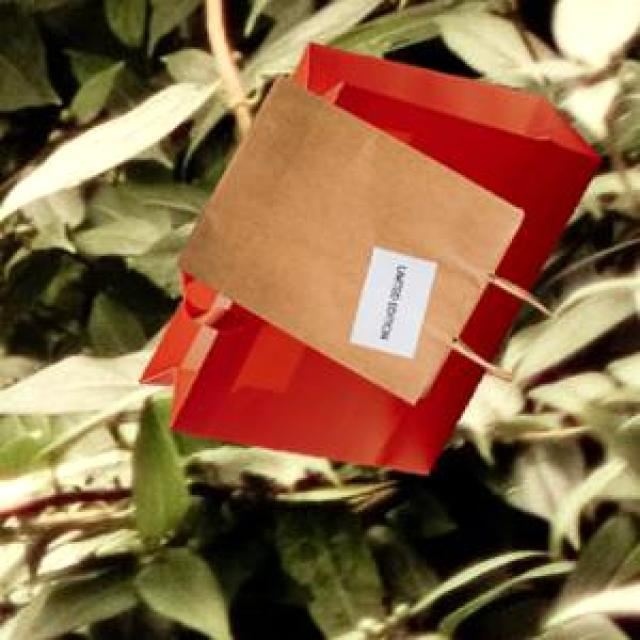Paper_Bag: (136, 39, 598, 470), (174, 72, 545, 402)
